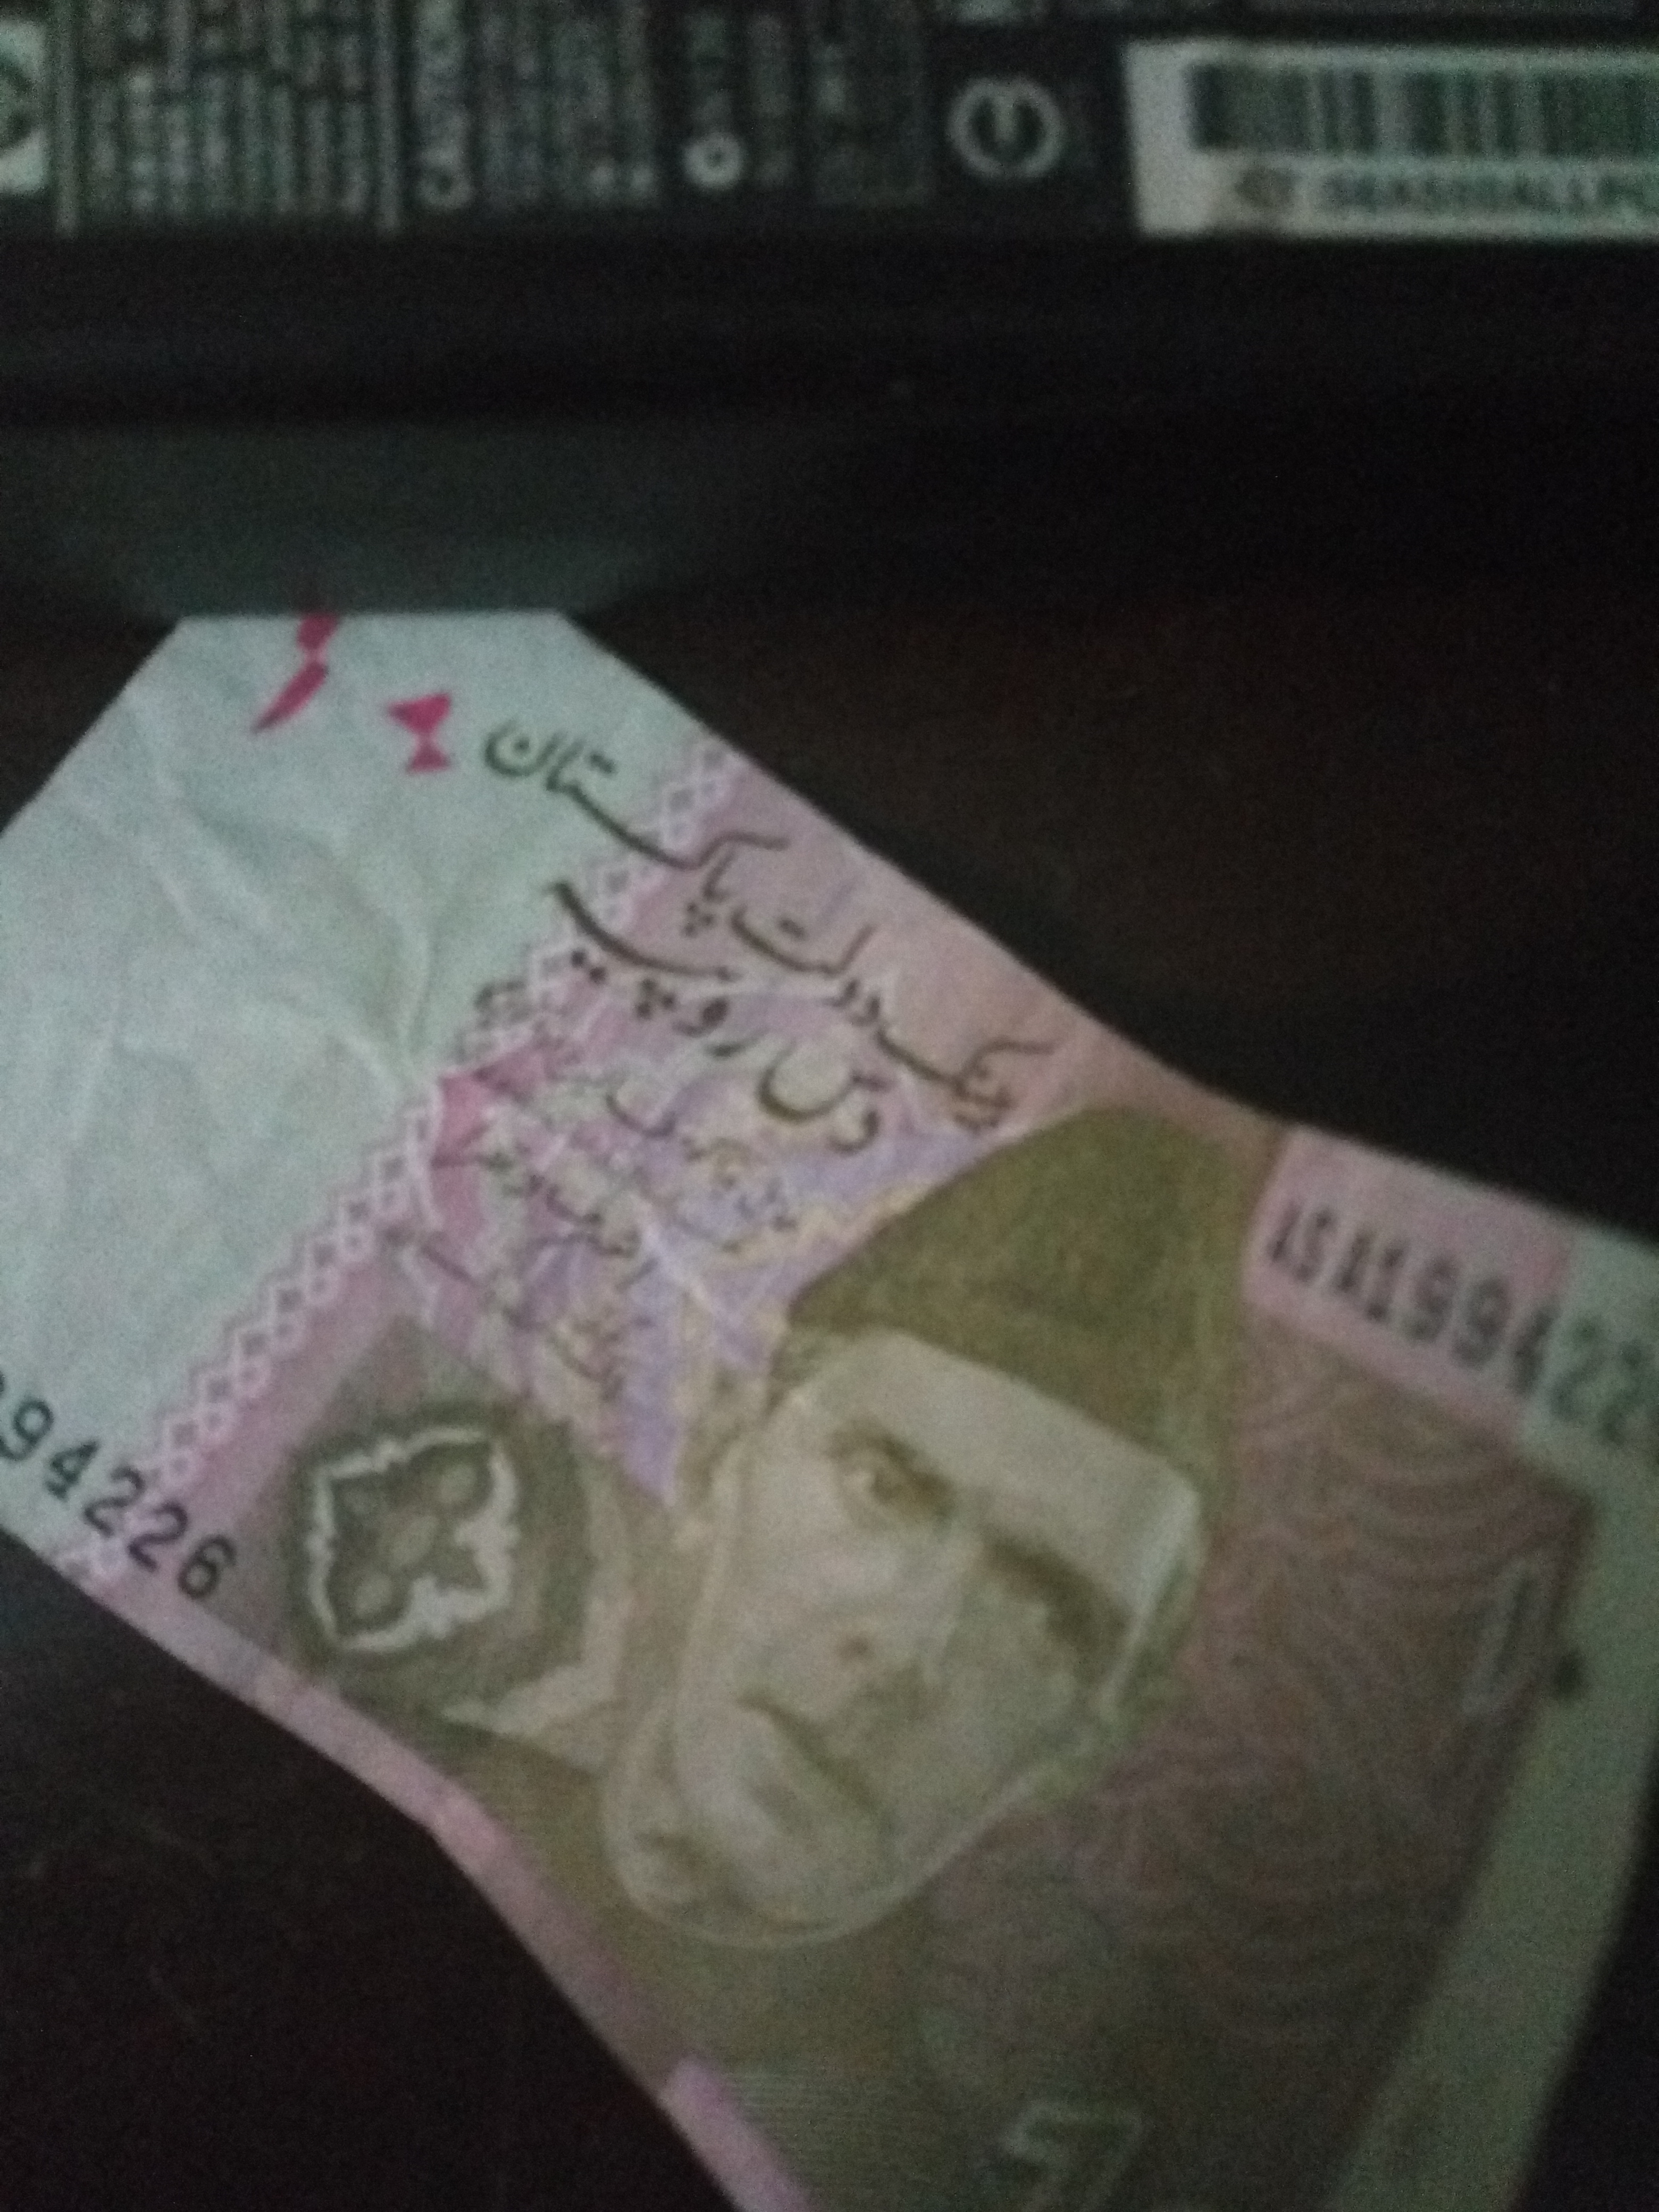10 rupee: (35, 575, 1638, 2170)
